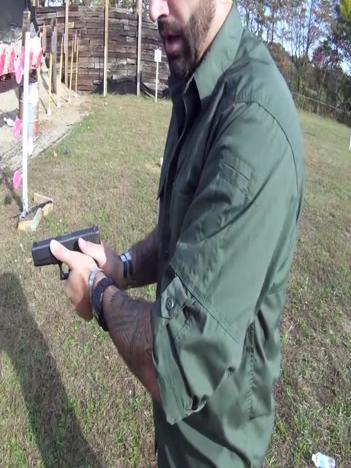pistol: (27, 224, 108, 303)
